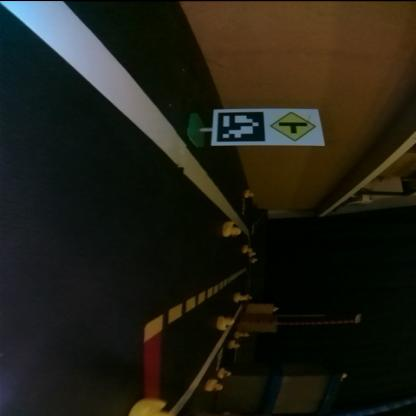Duckie: (131, 399, 173, 414), (223, 222, 242, 236), (218, 316, 236, 330), (208, 380, 223, 392), (218, 368, 232, 376), (229, 341, 241, 349), (236, 292, 244, 301), (243, 245, 254, 250), (248, 190, 256, 196)
Intersection sign: (271, 112, 318, 140)
QR code: (218, 111, 268, 141)
